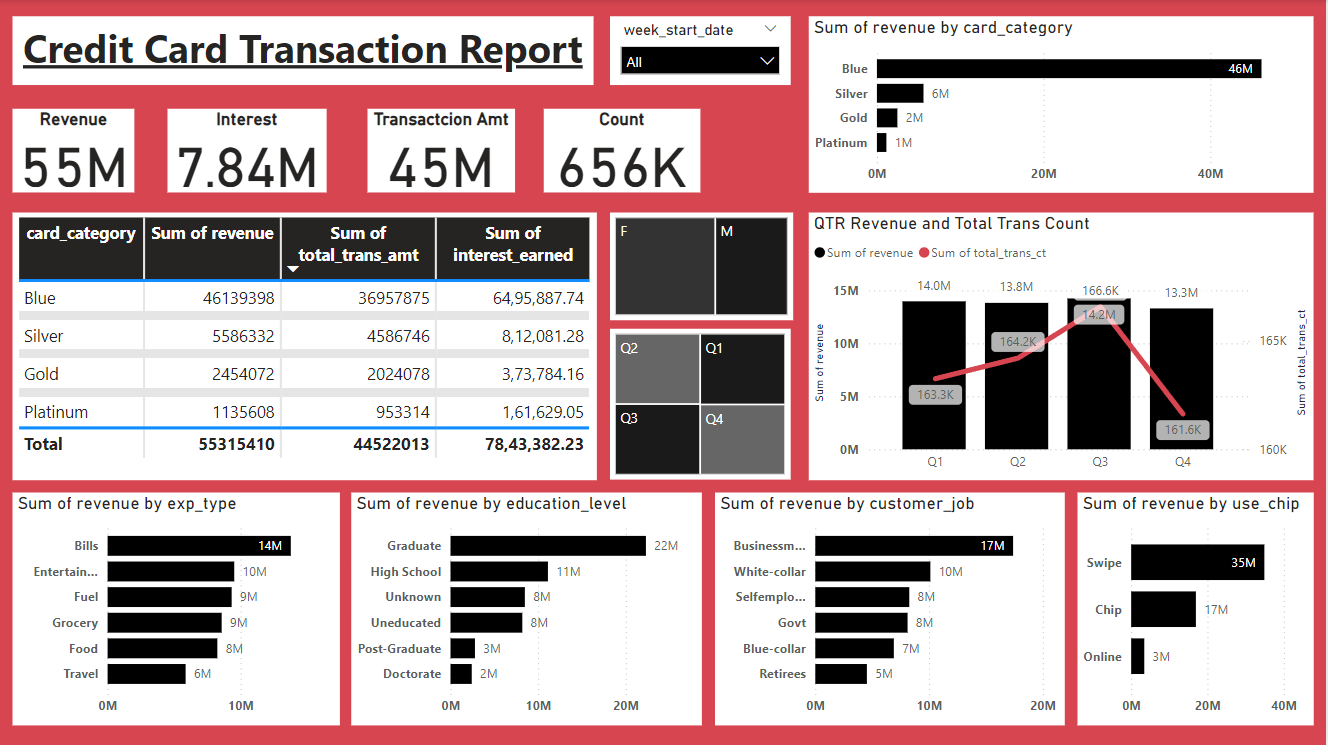

The page's visual inventory and layout, read from the dashboard file:
{"tool":"powerbi","page":{"name":"Page 2","canvas":[1280,720],"ordinal":0},"visuals":[{"type":"textbox","box":[12.3,15.9,560.4,66.2],"z":0},{"type":"lineStackedColumnComboChart","title":"QTR Revenue and Total Trans Count","fields":{"Category":["public cc_detail.qtr"],"Y":["Sum(public cc_detail.revenue)"],"Y2":["Sum(public cc_detail.total_trans_ct)"]},"box":[781.1,204.8,486.8,258.7],"z":1000},{"type":"barChart","fields":{"Y":["Sum(public cc_detail.revenue)"],"Category":["public cc_detail.exp_type"]},"box":[12.3,475.8,316.4,224.4],"z":2000},{"type":"barChart","fields":{"Y":["Sum(public cc_detail.revenue)"],"Category":["public cust_detail.customer_job"]},"box":[690.4,475.8,337.2,224.4],"z":3000},{"type":"barChart","fields":{"Y":["Sum(public cc_detail.revenue)"],"Category":["public cust_detail.education_level"]},"box":[338.5,475.8,338.5,224.4],"z":4000},{"type":"barChart","fields":{"Y":["Sum(public cc_detail.revenue)"],"Category":["public cc_detail.use_chip"]},"box":[1039.9,475.8,228.1,224.4],"z":5000},{"type":"barChart","fields":{"Y":["Sum(public cc_detail.revenue)"],"Category":["public cc_detail.card_category"]},"box":[781.1,15.9,486.8,170.5],"z":6000},{"type":"tableEx","fields":{"Values":["public cc_detail.card_category","Sum(public cc_detail.revenue)","Sum(public cc_detail.total_trans_amt)","Sum(public cc_detail.interest_earned)"]},"box":[12.3,204.8,564.1,258.7],"z":7000},{"type":"card","title":"Revenue","fields":{"Values":["Sum(public cc_detail.revenue)"]},"box":[12.3,105.5,117.7,80.9],"z":8000},{"type":"card","title":"Interest","fields":{"Values":["Sum(public cc_detail.interest_earned)"]},"box":[161.9,105.5,153.3,80.9],"z":9000},{"type":"card","title":"Transactcion Amt","fields":{"Values":["Sum(public cc_detail.total_trans_amt)"]},"box":[354.4,105.5,142.2,80.9],"z":10000},{"type":"card","title":"Count","fields":{"Values":["Sum(public cc_detail.total_trans_ct)"]},"box":[524.9,105.5,150.8,80.9],"z":11000},{"type":"slicer","fields":{"Values":["public cc_detail.week_start_date"]},"box":[588.6,15.9,174.1,66.2],"z":12000},{"type":"treemap","fields":{"Group":["public cc_detail.qtr"],"Values":["CountNonNull(public cc_detail.client_num)"]},"box":[588.6,317.6,174.1,145.9],"z":13000},{"type":"treemap","fields":{"Group":["public cust_detail.gender"],"Values":["CountNonNull(public cc_detail.client_num)"]},"box":[588.6,204.8,176.6,104.2],"z":14000}]}

Visuals, with their boxes in screenshot pixels (x1, y1, x2, y2), scaled from the page's 1280x720 canvas onto the 1328x745 screenshot:
textbox: left=13, top=16, right=594, bottom=85
"QTR Revenue and Total Trans Count" lineStackedColumnComboChart: left=810, top=212, right=1315, bottom=480
barChart - Sum(public cc_detail.revenue) x public cc_detail.exp_type: left=13, top=492, right=341, bottom=725
barChart - Sum(public cc_detail.revenue) x public cust_detail.customer_job: left=716, top=492, right=1066, bottom=725
barChart - Sum(public cc_detail.revenue) x public cust_detail.education_level: left=351, top=492, right=702, bottom=725
barChart - Sum(public cc_detail.revenue) x public cc_detail.use_chip: left=1079, top=492, right=1316, bottom=725
barChart - Sum(public cc_detail.revenue) x public cc_detail.card_category: left=810, top=16, right=1315, bottom=193
tableEx - public cc_detail.card_category x Sum(public cc_detail.revenue): left=13, top=212, right=598, bottom=480
"Revenue" card: left=13, top=109, right=135, bottom=193
"Interest" card: left=168, top=109, right=327, bottom=193
"Transactcion Amt" card: left=368, top=109, right=515, bottom=193
"Count" card: left=545, top=109, right=701, bottom=193
slicer - public cc_detail.week_start_date: left=611, top=16, right=791, bottom=85
treemap - public cc_detail.qtr x CountNonNull(public cc_detail.client_num): left=611, top=329, right=791, bottom=480
treemap - public cust_detail.gender x CountNonNull(public cc_detail.client_num): left=611, top=212, right=794, bottom=320
